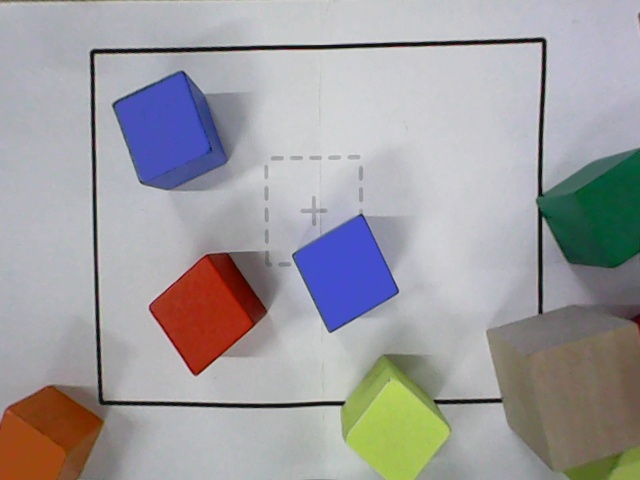upside of big cube: (526, 325, 639, 472)
upside of small cube: (147, 256, 254, 377), (292, 214, 399, 334), (343, 375, 452, 479), (112, 70, 211, 182), (575, 149, 639, 268), (0, 408, 69, 479)
